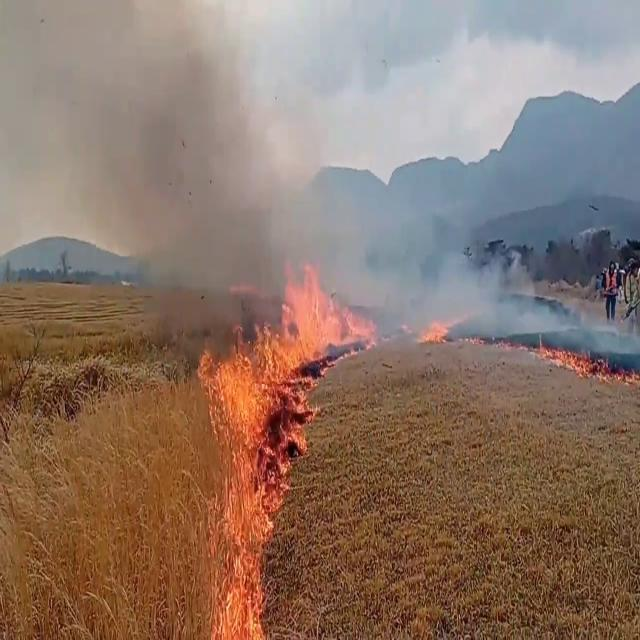Fire: (202, 300, 298, 628), (274, 264, 376, 332), (416, 310, 454, 348)
Smoke: (1, 4, 351, 334), (418, 236, 550, 334)
